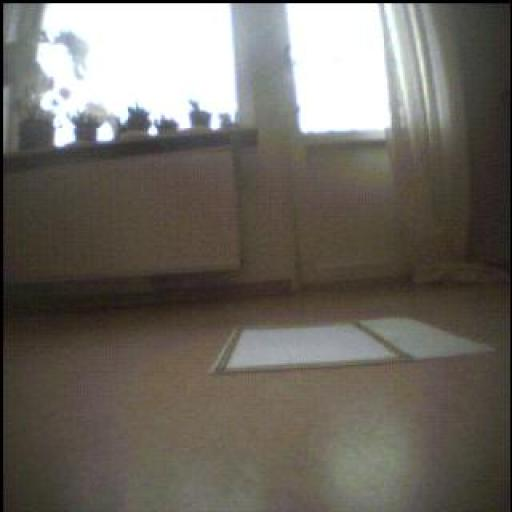Pad: (203, 315, 497, 371)
